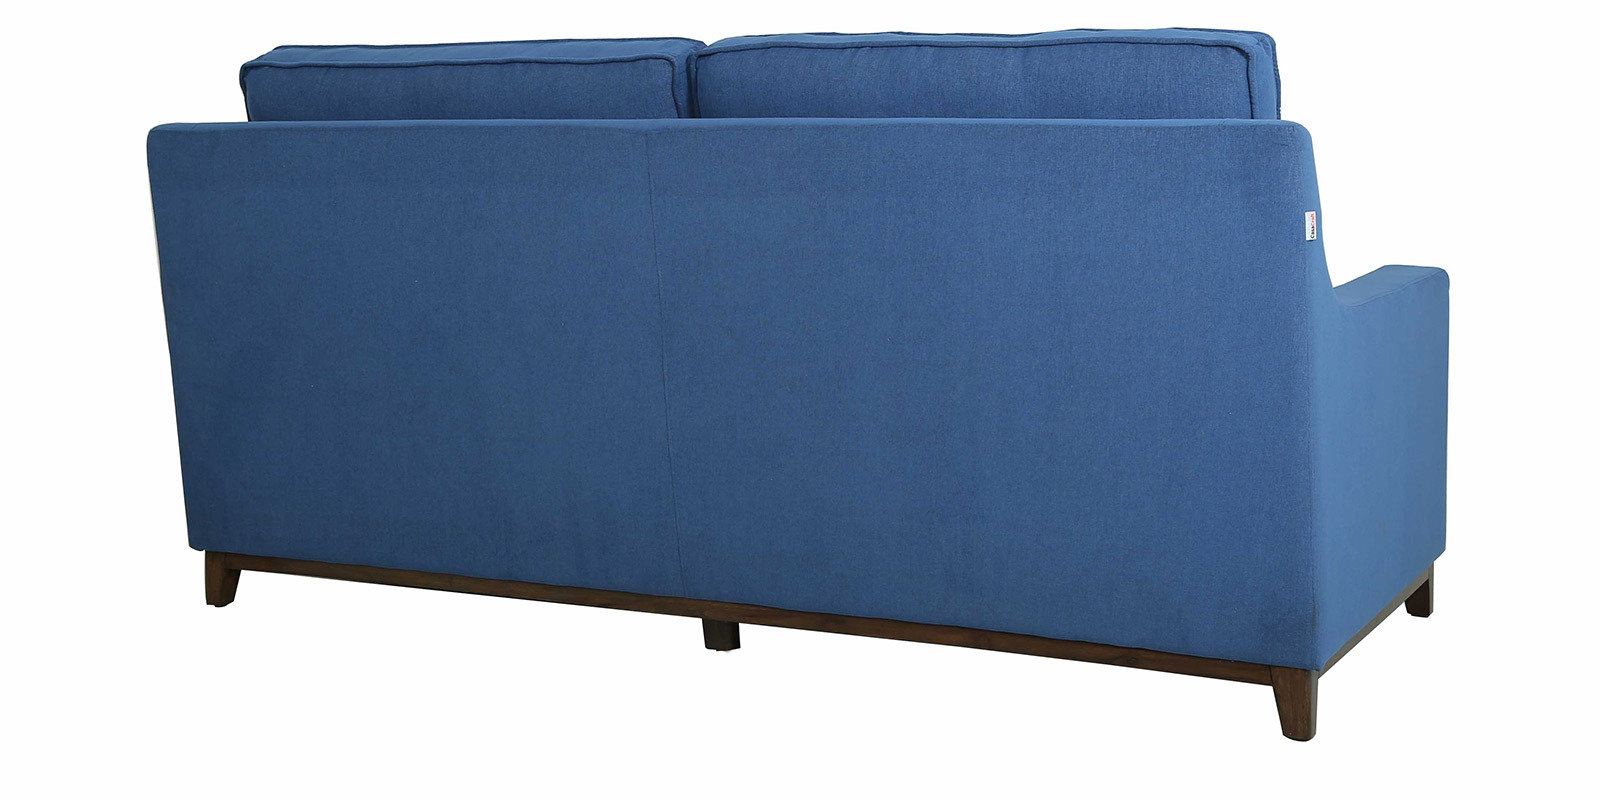Diego Three Seater Sofa in Denim Blue Colour by CasaCraft: (124, 16, 1489, 745)
